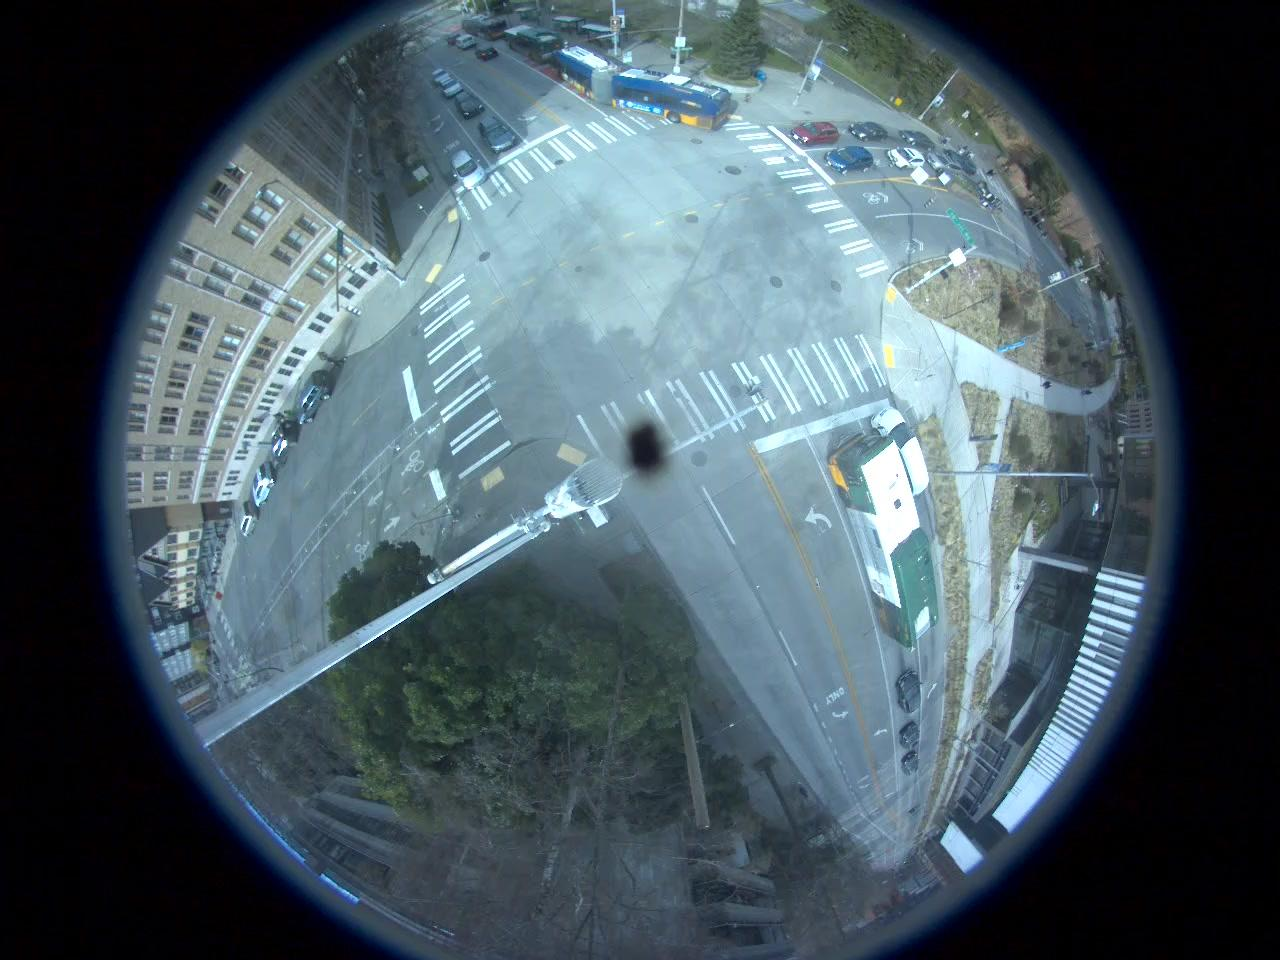bus: (834, 436, 934, 640), (558, 44, 732, 128), (504, 25, 562, 65), (460, 10, 507, 38)
car: (874, 406, 933, 495), (302, 368, 330, 422), (450, 150, 486, 189), (894, 664, 922, 714), (481, 114, 511, 154), (928, 153, 971, 179), (794, 117, 840, 141), (252, 464, 276, 508), (847, 117, 889, 141), (821, 152, 872, 171), (272, 422, 294, 464), (900, 126, 936, 150), (889, 145, 924, 168), (454, 94, 482, 122), (240, 500, 260, 537), (898, 719, 921, 749), (904, 748, 926, 774), (474, 43, 501, 62), (442, 80, 462, 100)
person: (318, 349, 354, 370)
